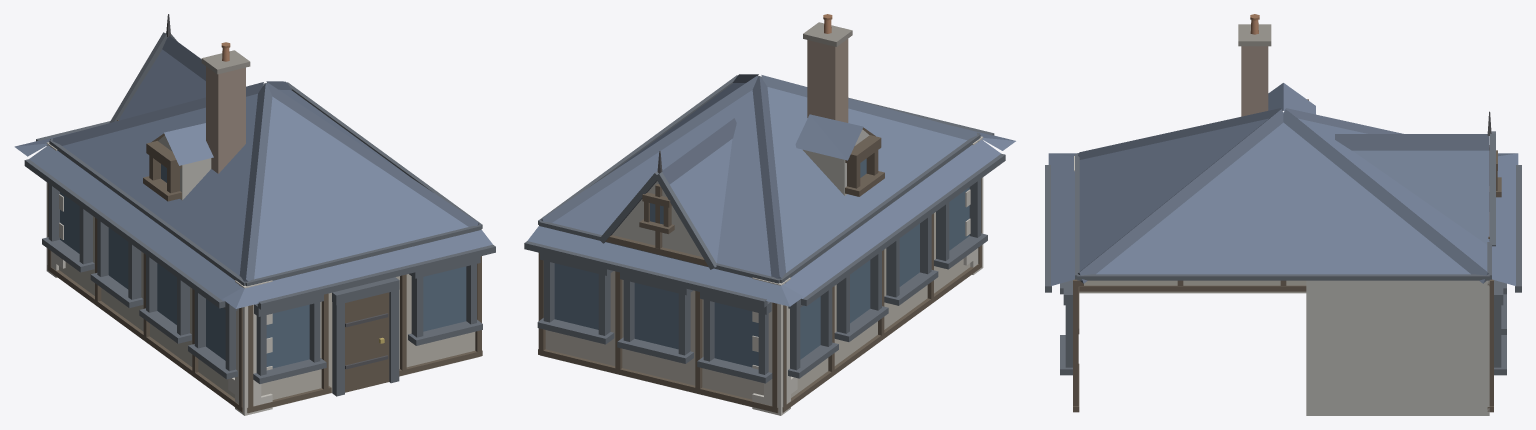
3 views of the same model, side by side, from view 1: azimuth 30°, elevation 25°; view 2: azimuth 150°, elevation 25°; view 3: azimuth 270°, elevation 25° (orthographic). The views are drawn at different scales.
Visible parts, largest first — view 1: B084_visible; view 2: B084_visible; view 3: B084_visible.
Part boxes in pixels (x1,y1,x2,y2): B084_visible: (14,14,495,415); B084_visible: (524,14,1015,415); B084_visible: (1045,14,1521,415).
Size of the model in its own units: 6.93 by 7.33 by 10.18.
